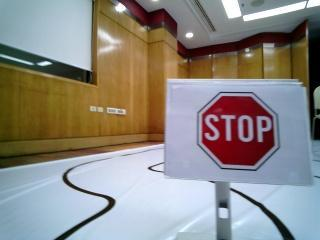stop: (175, 85, 292, 181)
